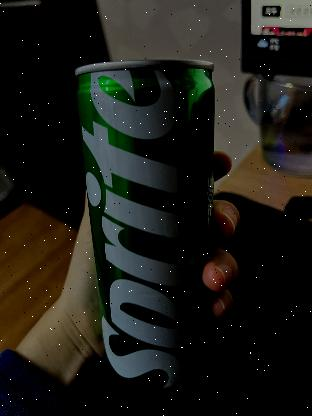Can: (73, 59, 217, 396)
